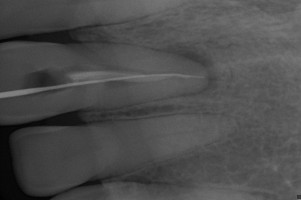Furcation Involvement: (164, 44, 221, 94)
